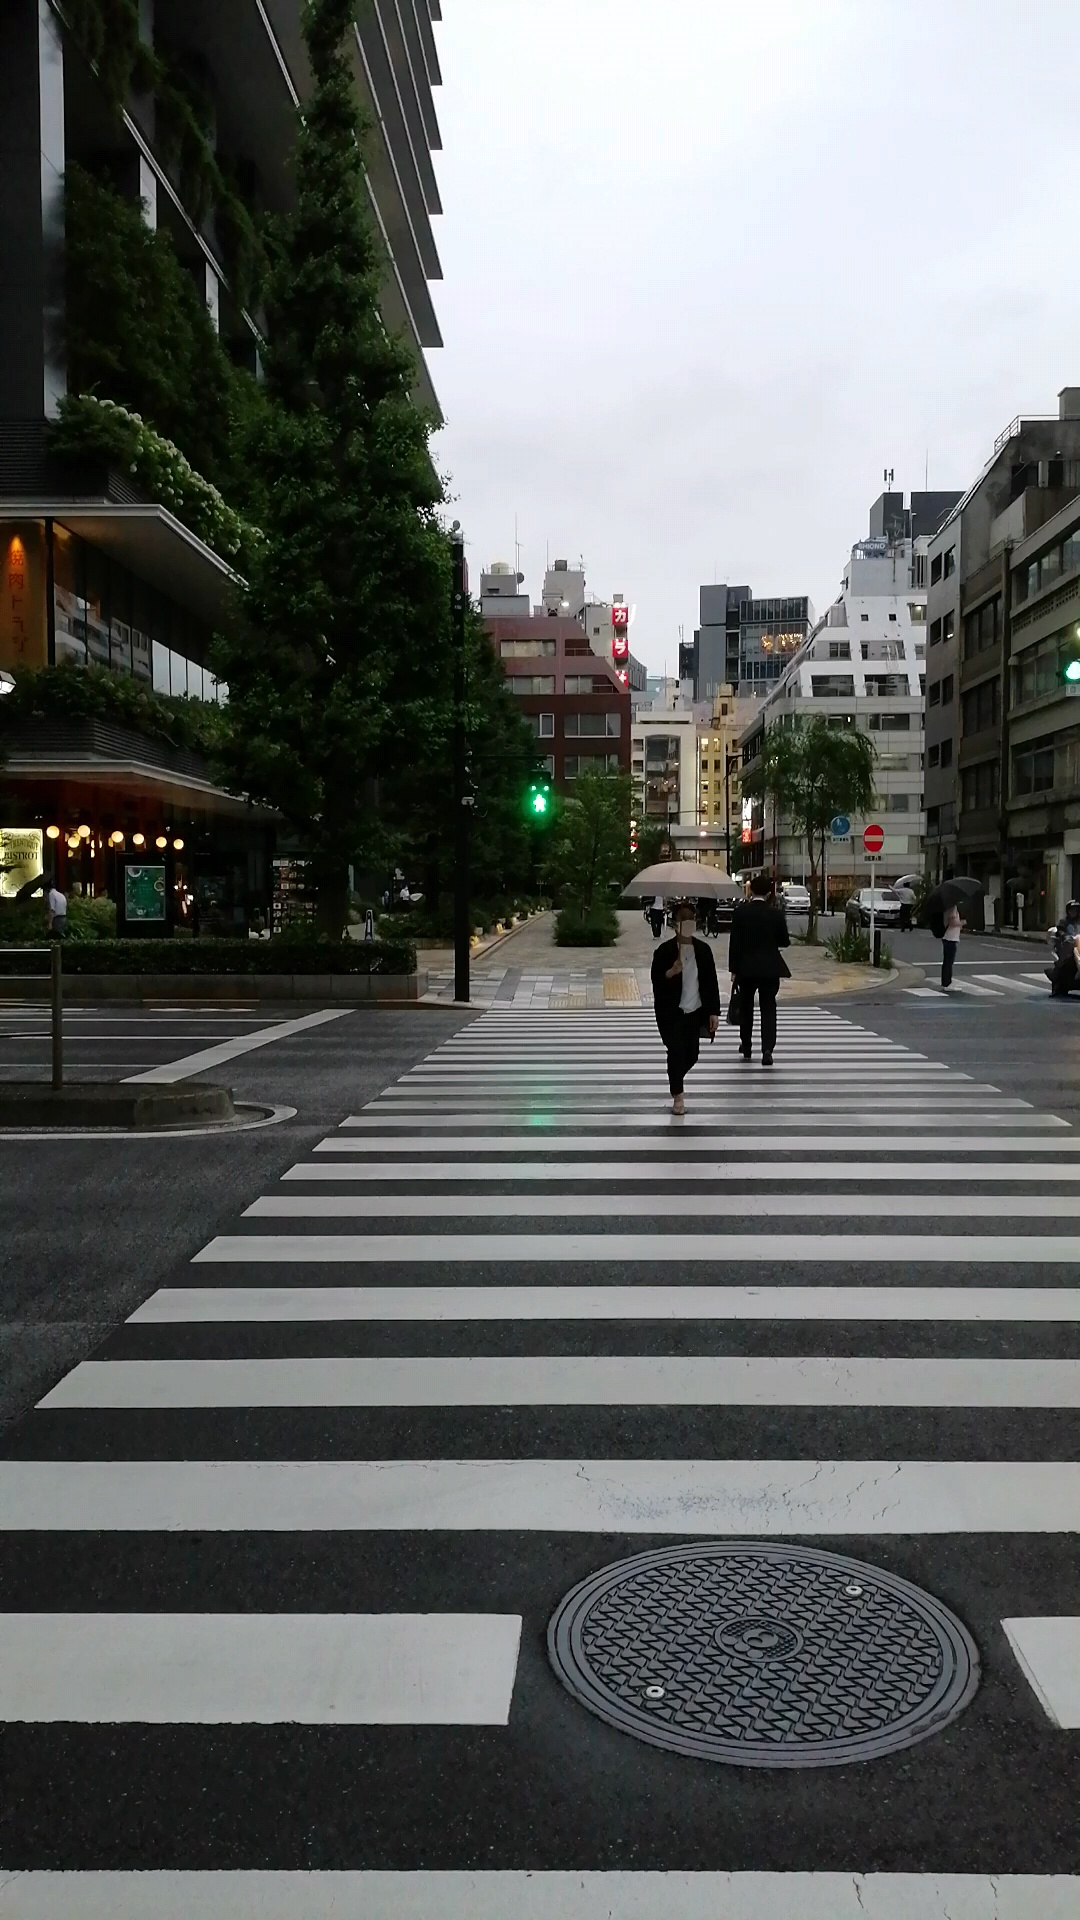green: (522, 767, 555, 822)
